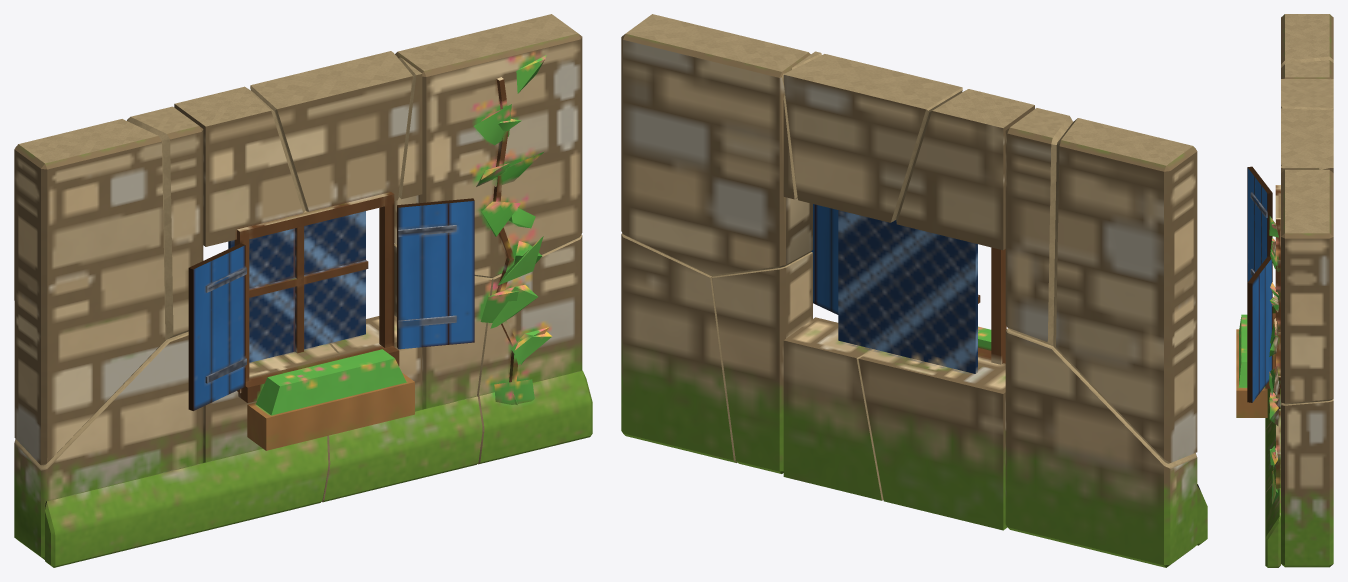
The model's file is Kit_House_GroundWin_Fractured.fbx.
The picture shows the model from 3 angles, left to right: view 1: azimuth 30°, elevation 25°; view 2: azimuth 150°, elevation 25°; view 3: azimuth 270°, elevation 25°; orthographic projection. The views are drawn at different scales.
Visible parts, largest first — view 1: Kit_House_GroundWin_frag_03, Kit_House_GroundWin_frag_06, Kit_House_GroundWin_frag_04, Kit_House_GroundWin_frag_02, Kit_House_GroundWin_frag_07, Kit_House_GroundWin_frag_01, Kit_House_GroundWin_frag_05; view 2: Kit_House_GroundWin_frag_03, Kit_House_GroundWin_frag_06, Kit_House_GroundWin_frag_04, Kit_House_GroundWin_frag_01, Kit_House_GroundWin_frag_02, Kit_House_GroundWin_frag_07, Kit_House_GroundWin_frag_05; view 3: Kit_House_GroundWin_frag_06, Kit_House_GroundWin_frag_07, Kit_House_GroundWin_frag_02, Kit_House_GroundWin_frag_05, Kit_House_GroundWin_frag_04, Kit_House_GroundWin_frag_03, Kit_House_GroundWin_frag_01.
Boxes of the visible parts, x1,y1,x2,y2 form: Kit_House_GroundWin_frag_03: [14, 211, 414, 567]; Kit_House_GroundWin_frag_06: [394, 14, 582, 349]; Kit_House_GroundWin_frag_04: [14, 119, 166, 465]; Kit_House_GroundWin_frag_02: [127, 86, 305, 410]; Kit_House_GroundWin_frag_07: [477, 234, 592, 464]; Kit_House_GroundWin_frag_01: [322, 192, 492, 502]; Kit_House_GroundWin_frag_05: [246, 51, 413, 239]; Kit_House_GroundWin_frag_03: [838, 210, 1207, 567]; Kit_House_GroundWin_frag_06: [621, 14, 838, 314]; Kit_House_GroundWin_frag_04: [1053, 118, 1197, 463]; Kit_House_GroundWin_frag_01: [711, 252, 883, 500]; Kit_House_GroundWin_frag_02: [896, 89, 1072, 364]; Kit_House_GroundWin_frag_07: [621, 233, 737, 462]; Kit_House_GroundWin_frag_05: [783, 54, 962, 222]; Kit_House_GroundWin_frag_06: [1247, 165, 1333, 404]; Kit_House_GroundWin_frag_07: [1265, 376, 1333, 567]; Kit_House_GroundWin_frag_02: [1247, 60, 1333, 282]; Kit_House_GroundWin_frag_05: [1275, 108, 1333, 244]; Kit_House_GroundWin_frag_04: [1281, 14, 1333, 67]; Kit_House_GroundWin_frag_03: [1236, 269, 1280, 431]; Kit_House_GroundWin_frag_01: [1265, 245, 1280, 495].
Size of what is drawn, in the model's own units: 4 by 2.8 by 0.7409.
Materials: 2 (2 with a texture image).
